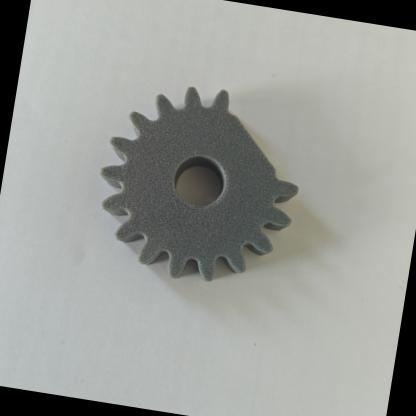defect: (190, 78, 322, 214)
gear: (63, 47, 340, 314)
